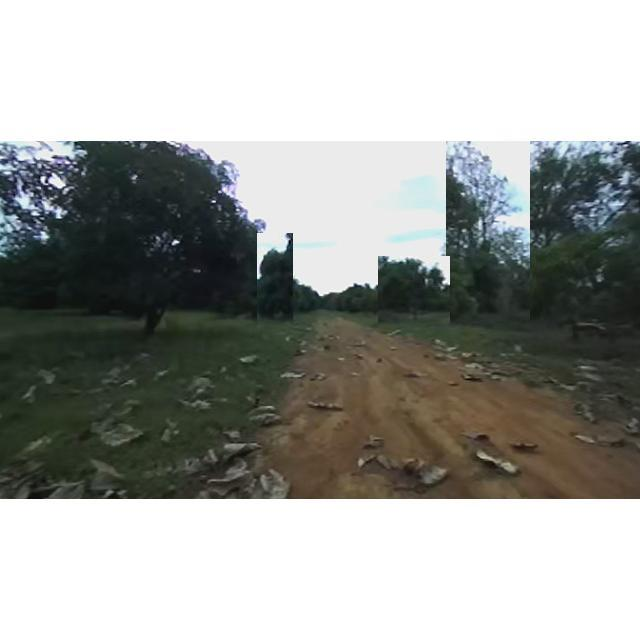direk: (5, 142, 266, 344), (505, 142, 637, 324), (490, 229, 640, 357), (446, 141, 530, 321), (378, 256, 450, 324), (257, 233, 293, 325)
